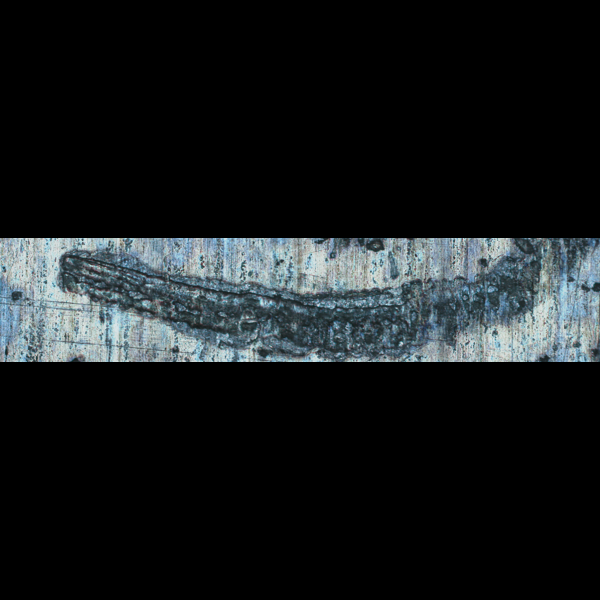d: (50, 242, 588, 362)
